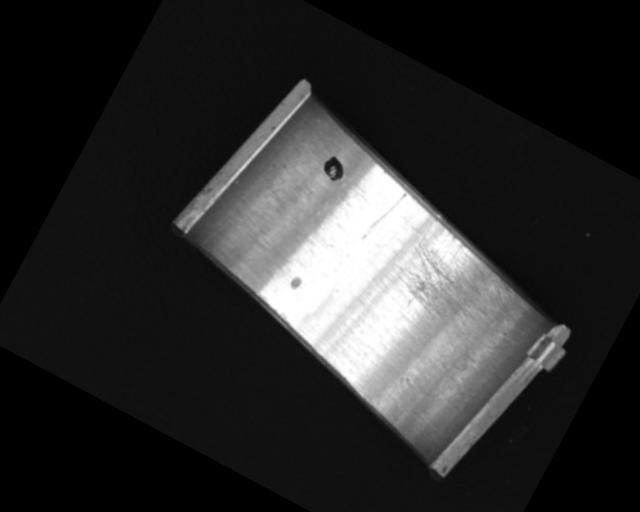blot: (318, 153, 351, 184)
bruise: (287, 273, 304, 292)
nick: (200, 167, 284, 268), (358, 183, 407, 249)
scratch: (385, 213, 528, 347)
